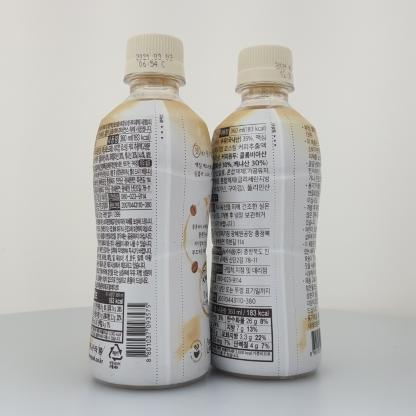--------TOP-----------: (89, 33, 213, 389), (208, 44, 322, 380)
